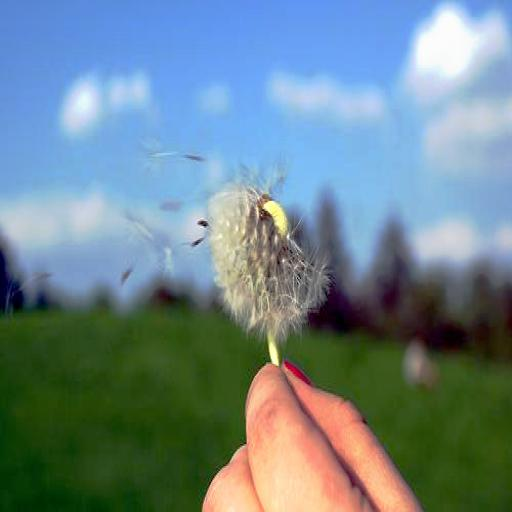dandelion: (205, 170, 330, 342)
